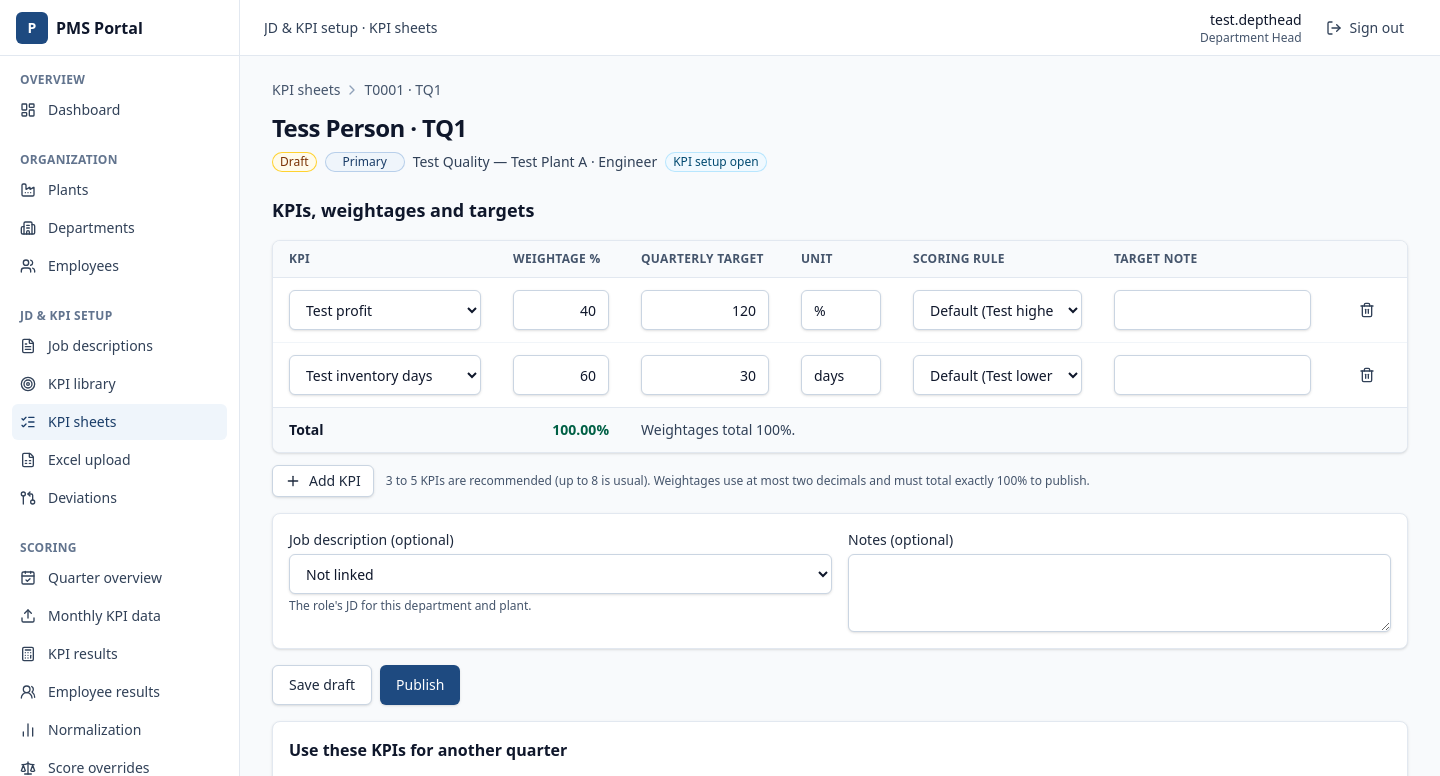
Test: quarterly KPI sheet › shows the API’s reasons when a save is refused
Click the button "Save draft" at (322, 685), box [272,665,372,705]
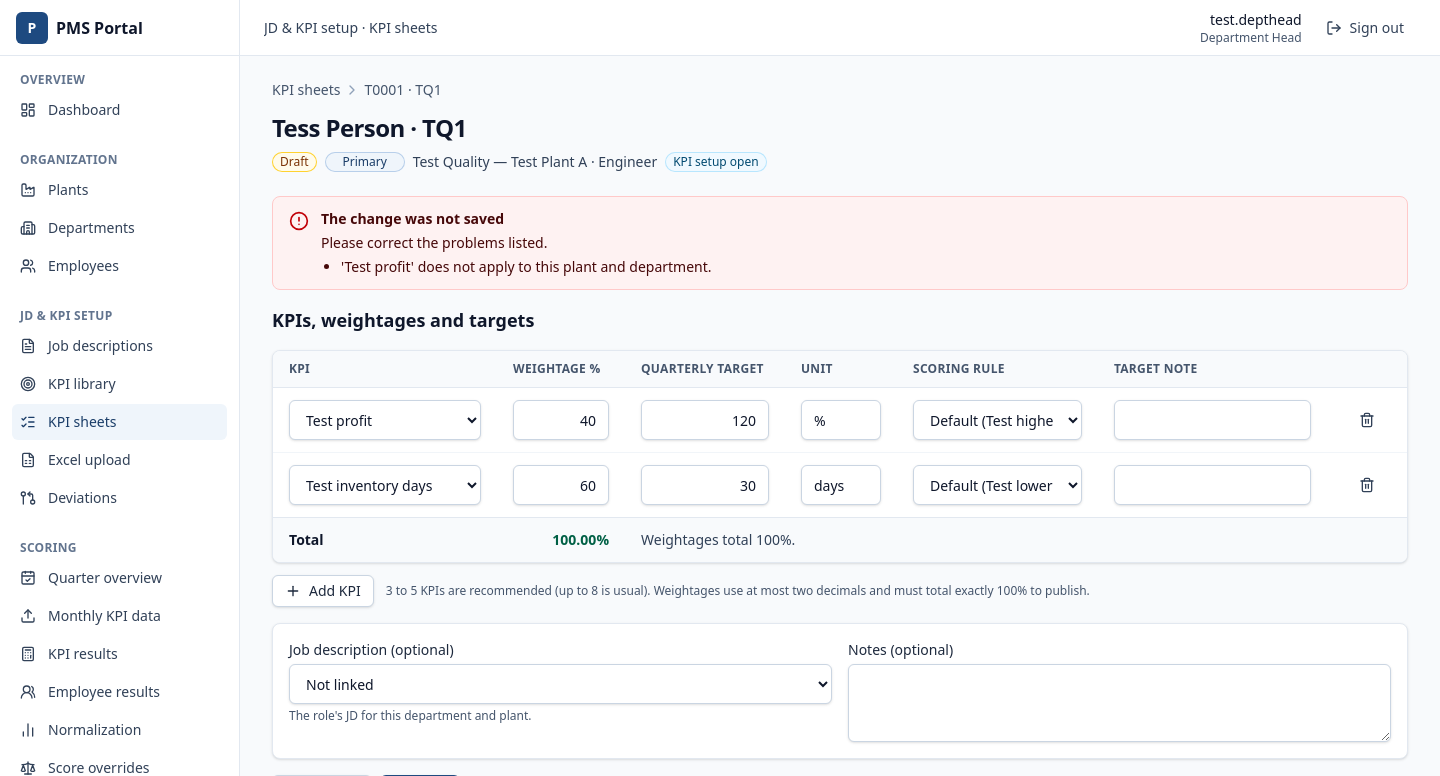
Expected: the text "The change was not saved" is shown, [321,209,504,228]
Expected: the text "Please correct the problems listed." is shown, [321,233,548,252]
